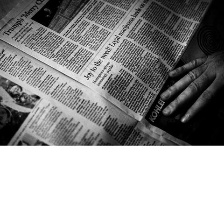news_paper: (0, 0, 224, 149), (0, 35, 183, 146)
